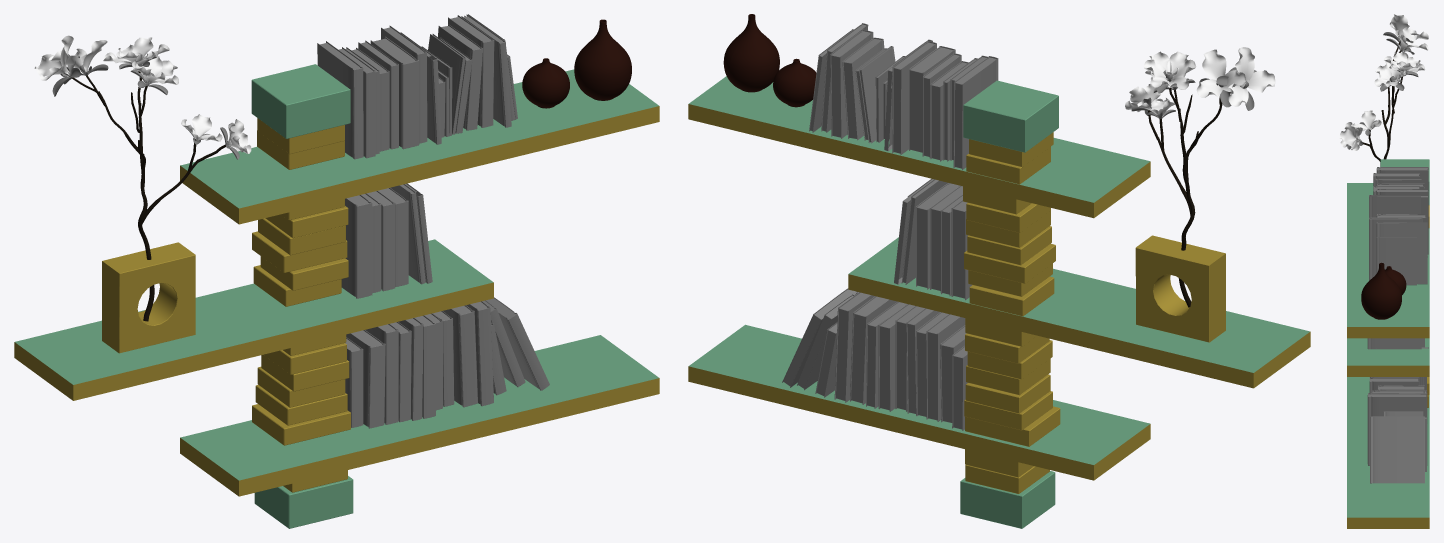
File: uploads_files_975204_U_bookshelf_02.FBX
The picture shows the model from 3 angles, left to right: view 1: azimuth 30°, elevation 25°; view 2: azimuth 150°, elevation 25°; view 3: azimuth 270°, elevation 25°; orthographic projection. The views are drawn at different scales.
Visible parts, largest first — view 1: Box001, MI_BOOKS, bookshelf_02, plant_decor00, plant_decor04; view 2: Box001, MI_BOOKS, bookshelf_02, plant_decor00, plant_decor04; view 3: Box001, MI_BOOKS, bookshelf_02, plant_decor00, plant_decor04.
Part boxes in pixels (x1=…): Box001: x1=14, y1=64, x2=659, y2=528; MI_BOOKS: x1=317, y1=14, x2=549, y2=428; bookshelf_02: x1=34, y1=35, x2=251, y2=353; plant_decor00: x1=574, y1=19, x2=631, y2=100; plant_decor04: x1=522, y1=58, x2=569, y2=108; Box001: x1=688, y1=76, x2=1310, y2=528; MI_BOOKS: x1=782, y1=23, x2=998, y2=430; bookshelf_02: x1=1125, y1=47, x2=1275, y2=342; plant_decor00: x1=723, y1=14, x2=779, y2=92; plant_decor04: x1=773, y1=58, x2=816, y2=107; Box001: x1=1347, y1=159, x2=1429, y2=528; MI_BOOKS: x1=1367, y1=167, x2=1428, y2=483; bookshelf_02: x1=1339, y1=14, x2=1428, y2=161; plant_decor00: x1=1361, y1=262, x2=1401, y2=319; plant_decor04: x1=1385, y1=266, x2=1406, y2=294.
Size of the model in its own units: 230 by 200 by 43.62.
